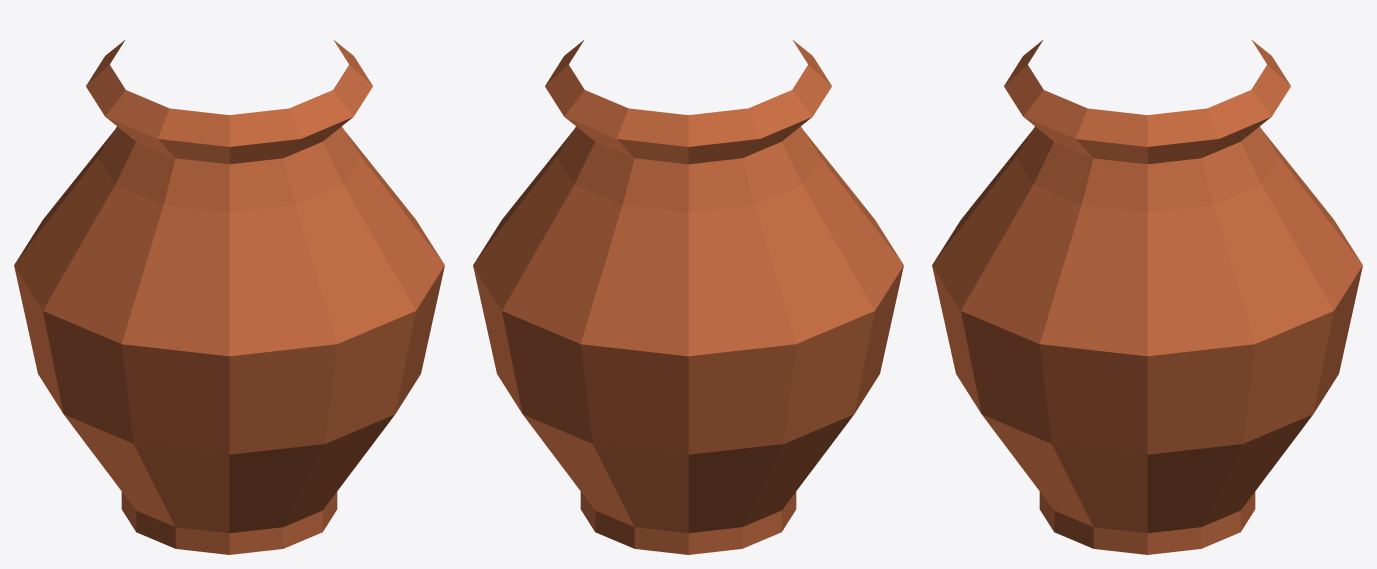
Rendered from fo.terracotta-urn.glb.
3 views of the same model, side by side, from view 1: azimuth 30°, elevation 25°; view 2: azimuth 150°, elevation 25°; view 3: azimuth 270°, elevation 25° (orthographic).
Parts seen in each view (by area): view 1: Terracotta Urn; view 2: Terracotta Urn; view 3: Terracotta Urn.
Boxes of the visible parts, bbox=[...] form: Terracotta Urn: bbox=[14, 40, 444, 554]; Terracotta Urn: bbox=[473, 40, 903, 554]; Terracotta Urn: bbox=[932, 40, 1362, 554].
Size of the model in its own units: 0.72 by 0.82 by 0.72.
